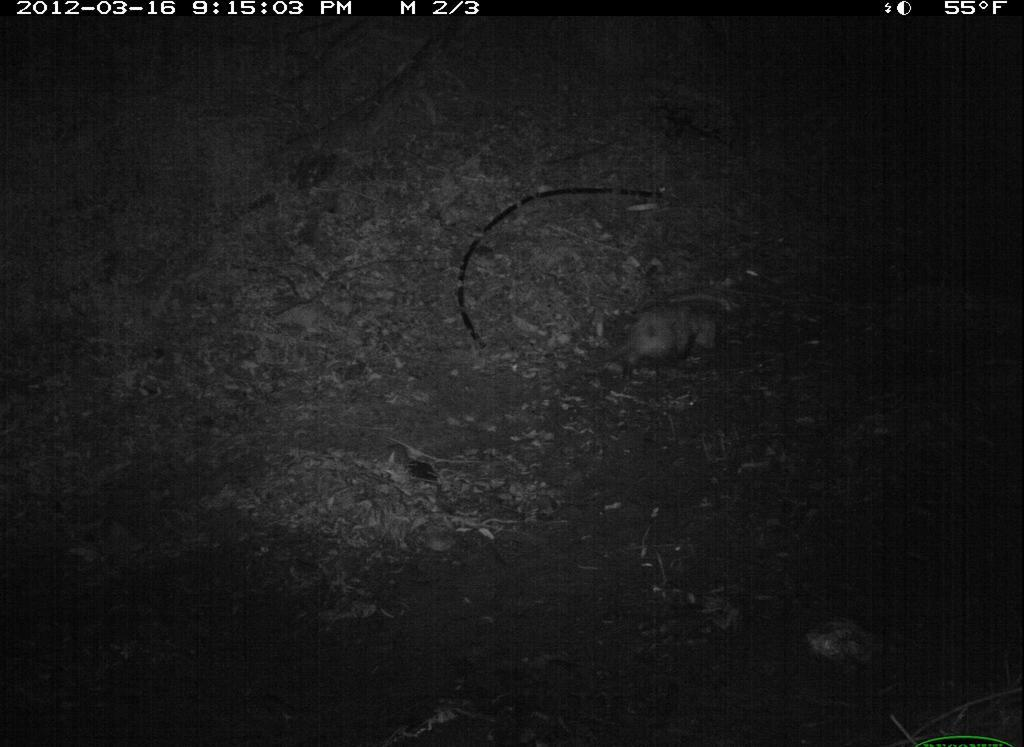opossum: (586, 291, 737, 391)
